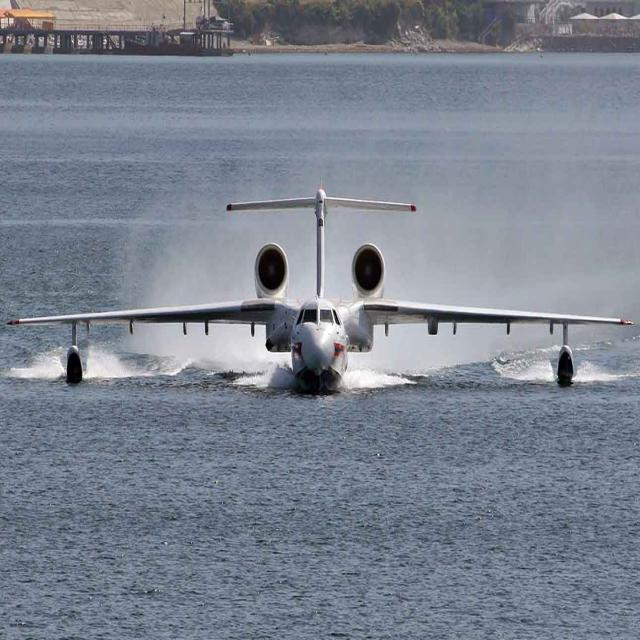MIL_Plane: (0, 176, 378, 392)
